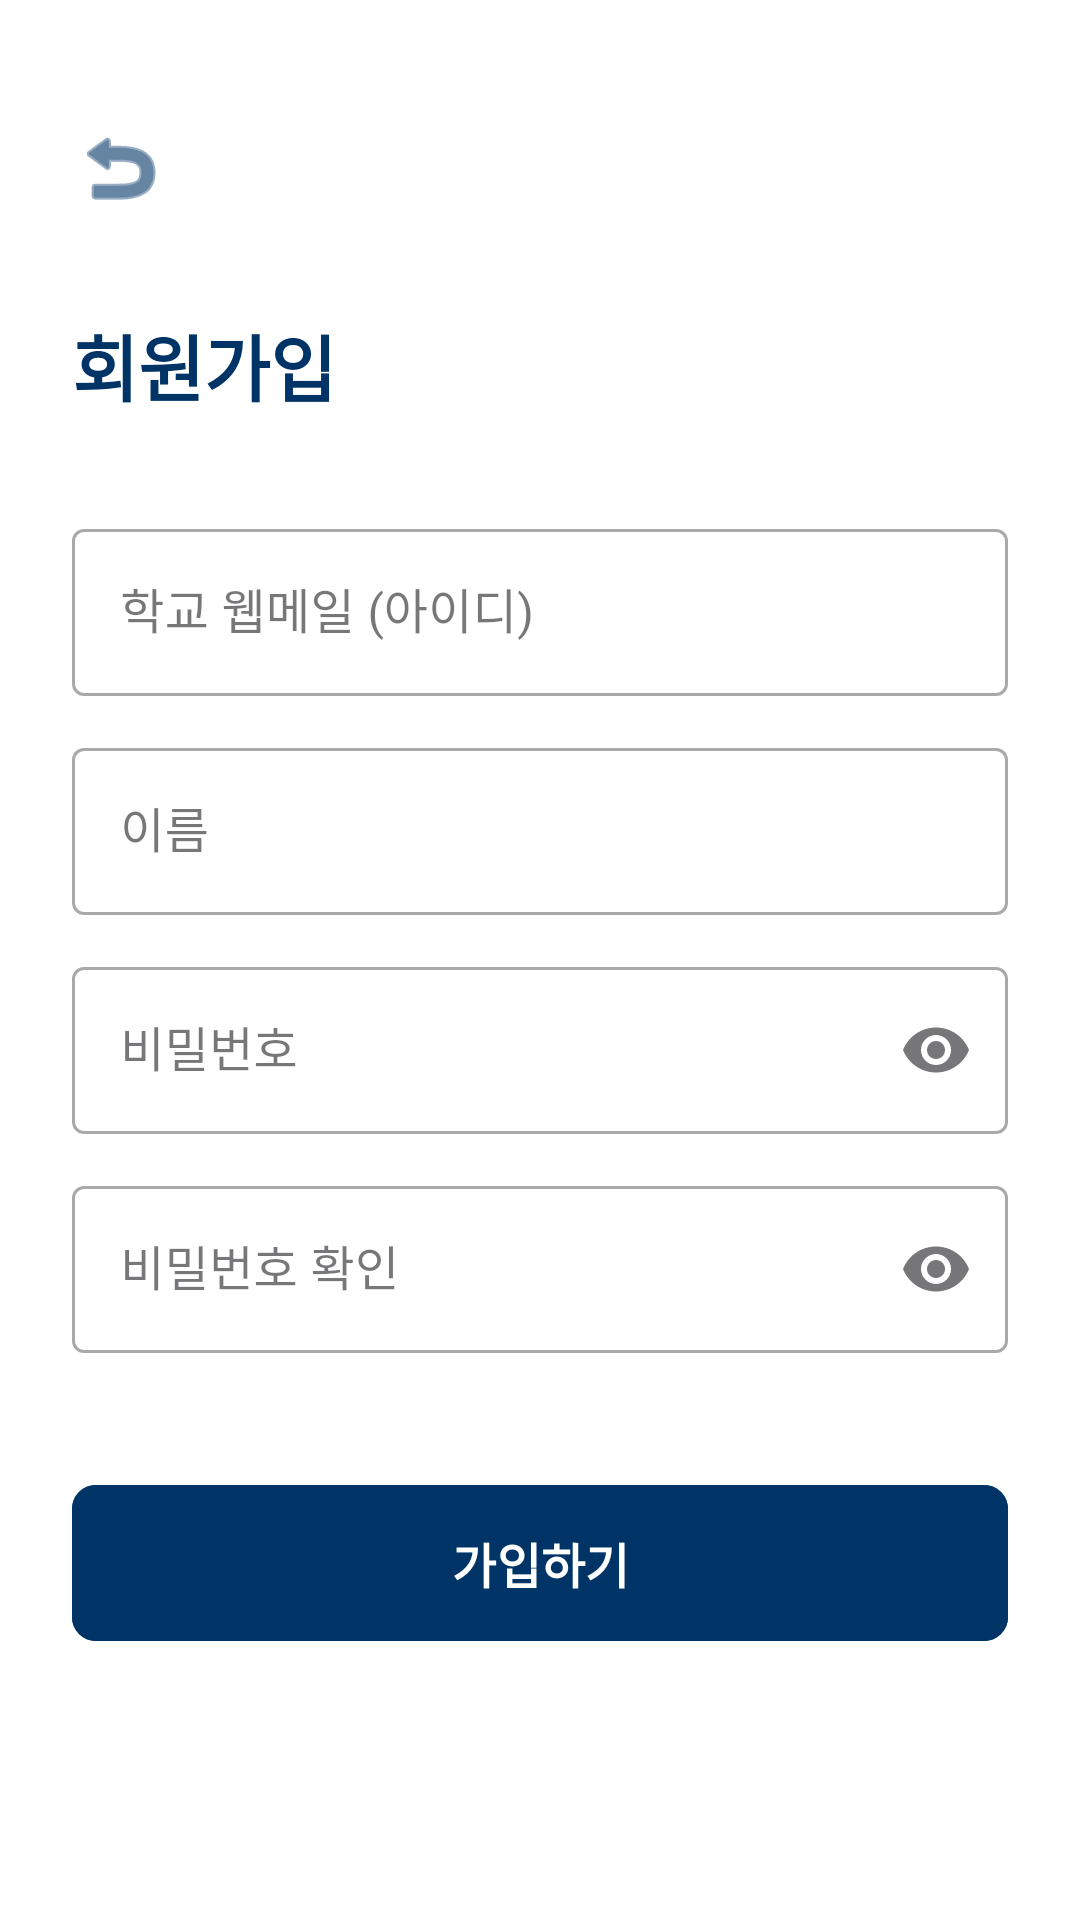

Where icons sit on this 1080px×1920px app screen, as box(x1, y1, x2, y2):
revert: box(87, 137, 156, 200)
